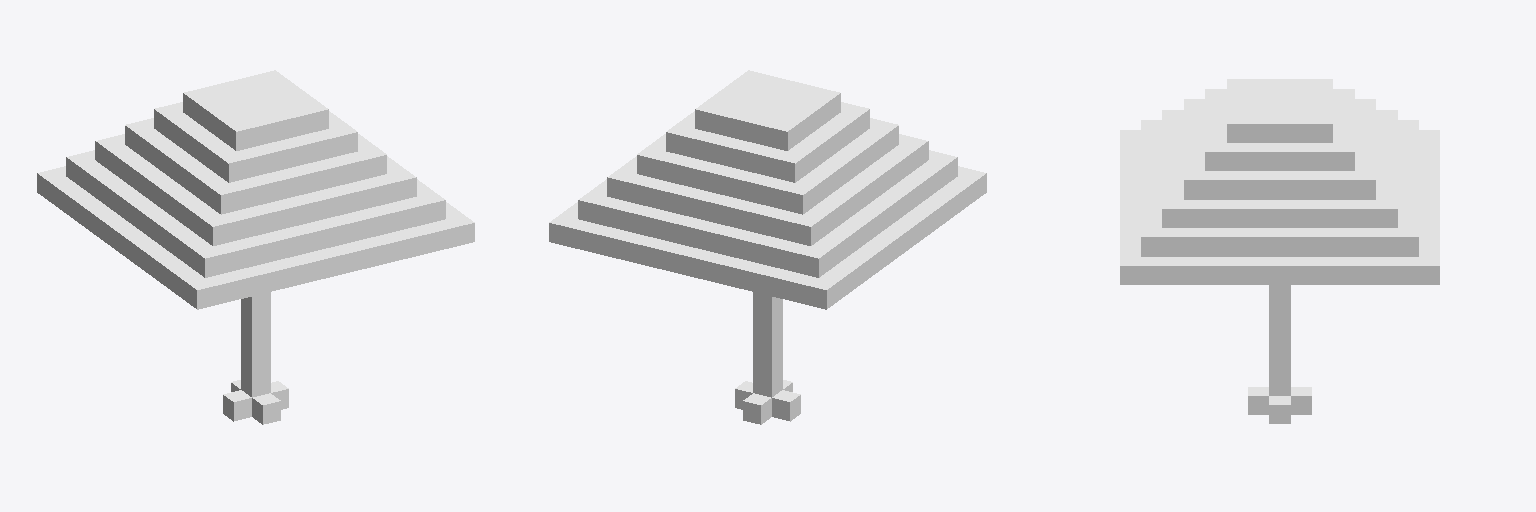
The model's file is parasol.obj.
3 views of the same model, side by side, from view 1: azimuth 30°, elevation 25°; view 2: azimuth 150°, elevation 25°; view 3: azimuth 270°, elevation 25° (orthographic).
Visible parts, largest first — view 1: object 1; view 2: object 1; view 3: object 1.
Part boxes in pixels (bbox=[...]): object 1: bbox=[37, 70, 474, 424]; object 1: bbox=[549, 70, 986, 424]; object 1: bbox=[1120, 79, 1439, 423].
Bounding box in the file's own units: 1.5 × 1.6 × 1.5.